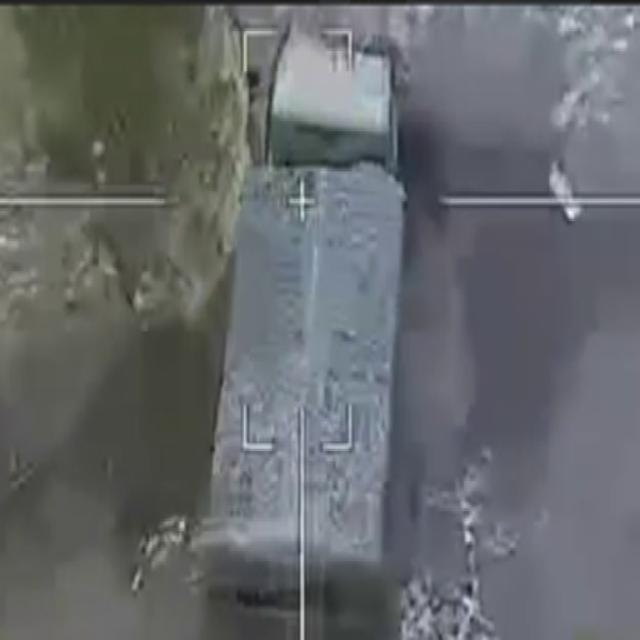TRUCK: (199, 29, 410, 620)
